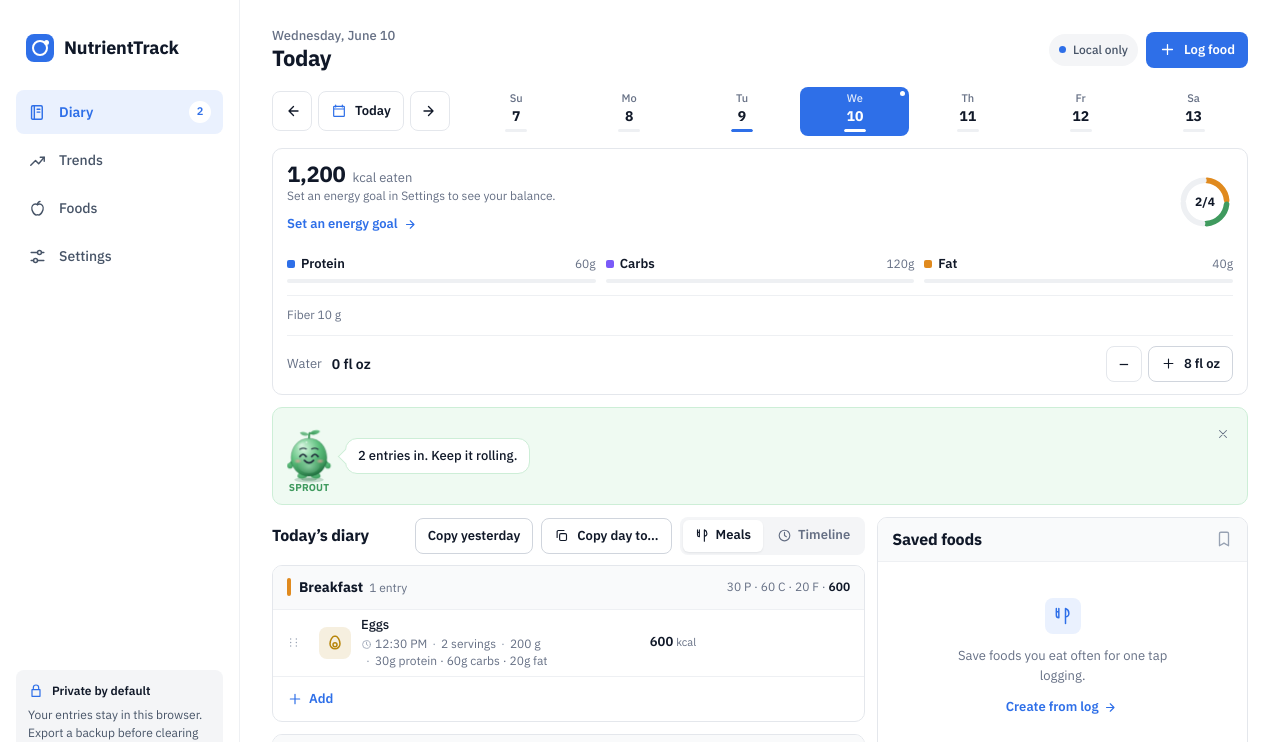
Test case: copy a day › rejects_the_same_date_without_saving
Click the button "Copy day to…" at [606, 536], box [541, 518, 672, 554]
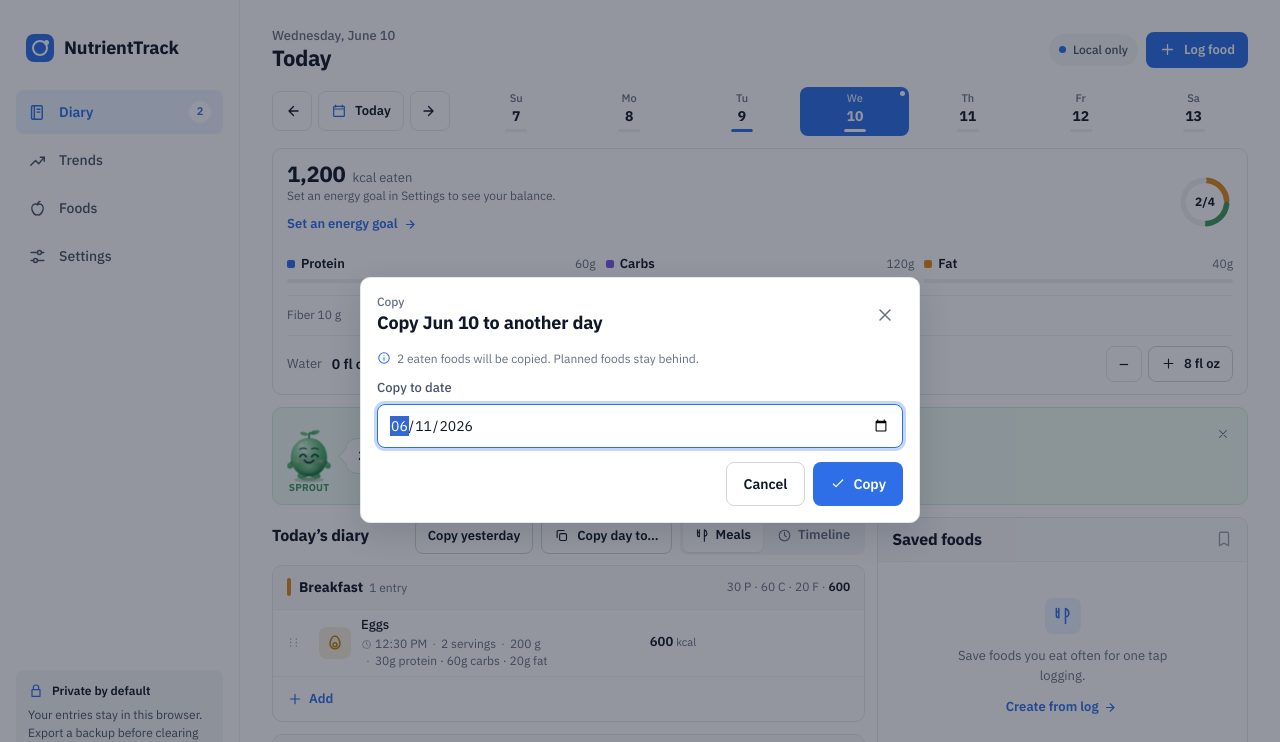
Expected: the dialog is shown, [360, 277, 920, 523]
Type "2026-06-10" into the date field labelled "Copy to date" at [640, 426], box [377, 404, 903, 448]
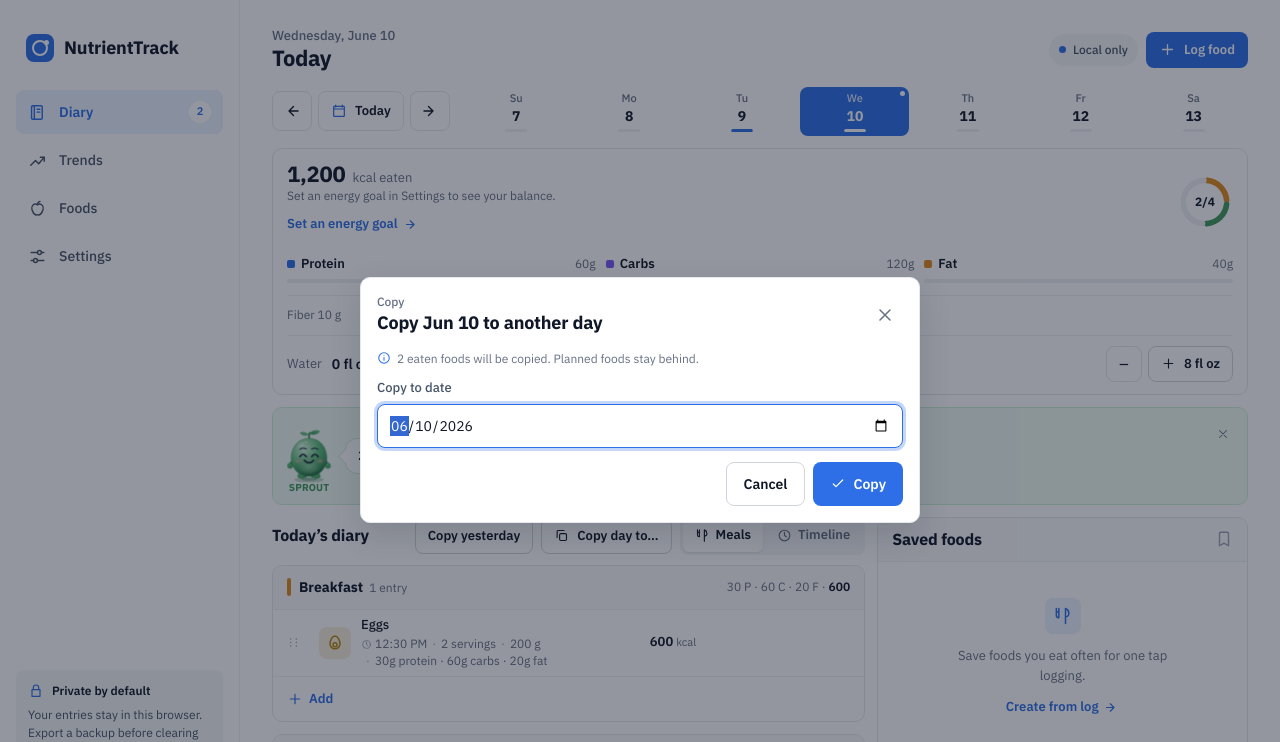
Click the button "Copy" at [858, 484], box [812, 462, 903, 506]
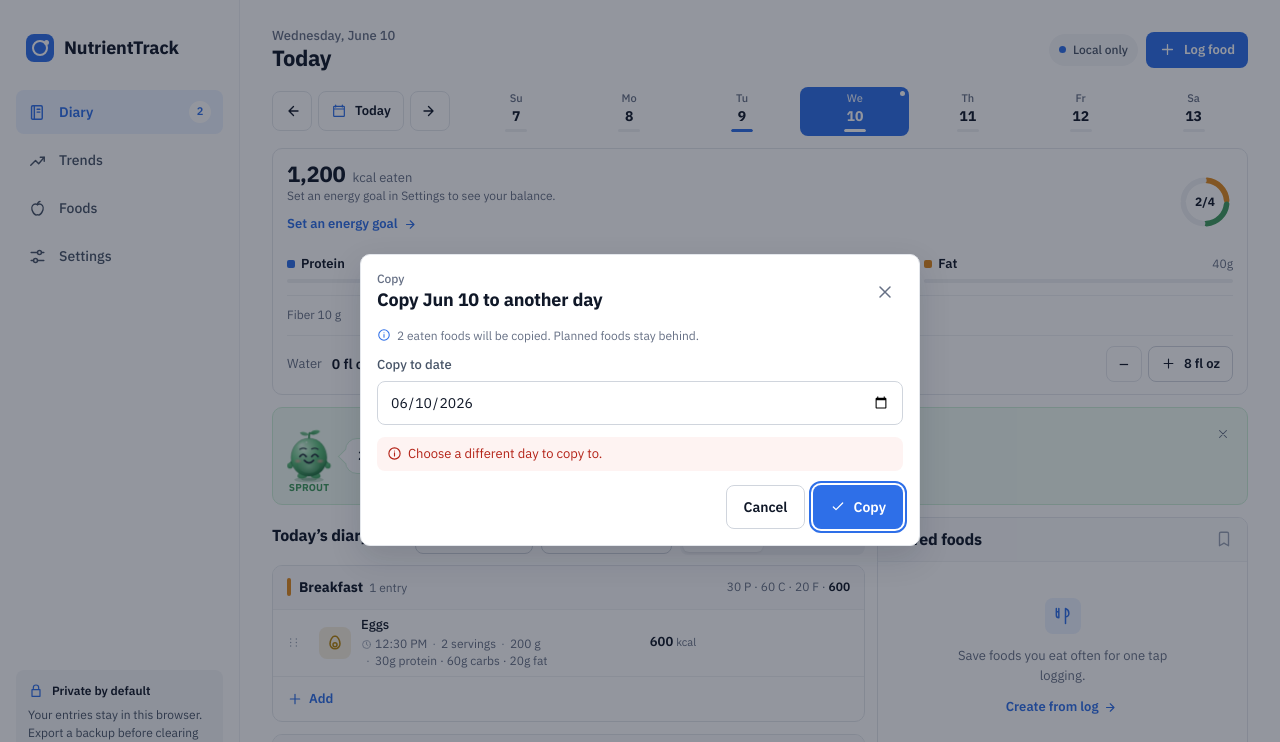
Expected: the message shows "Choose a different day", [408, 445, 602, 462]
